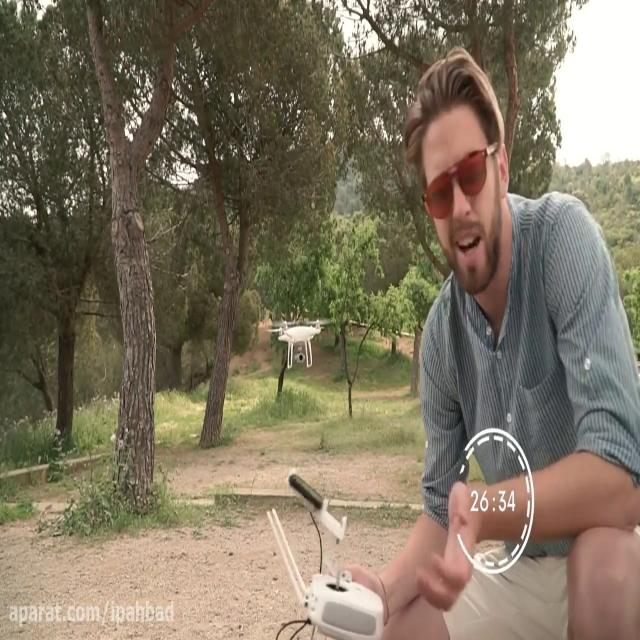drone: (268, 314, 330, 369)
